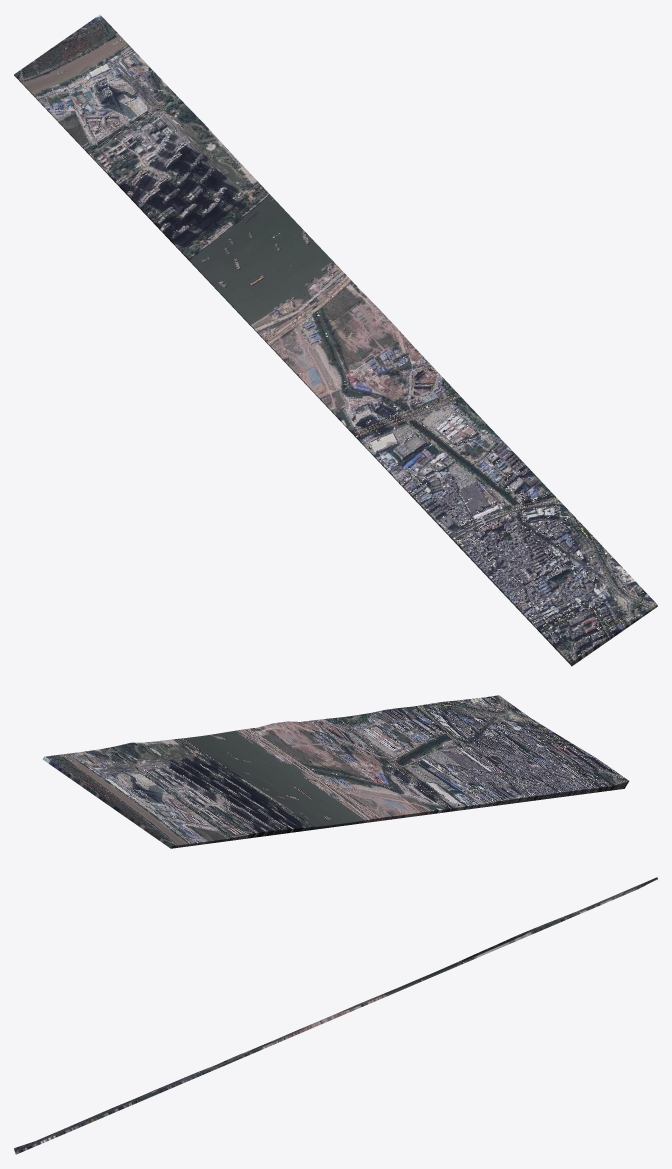
3 renders of one model, top to bottom at view 1: azimuth 30°, elevation 25°; view 2: azimuth 150°, elevation 25°; view 3: azimuth 270°, elevation 25°, orthographic. The views are drawn at different scales.
Parts seen in each view (by area): view 1: 3_1_4; view 2: 3_1_4; view 3: 3_1_4.
Part boxes in pixels (left/top/right/bottom): 3_1_4: left=14, top=14, right=657, bottom=666; 3_1_4: left=42, top=695, right=629, bottom=848; 3_1_4: left=14, top=877, right=657, bottom=1154.
Bounding box in the file's own units: 1278 × 1986 × 4489.
Materials: 1 (1 with a texture image).
